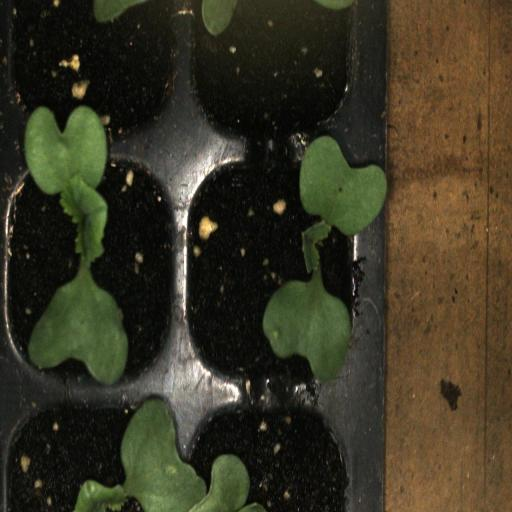Folha: (74, 398, 266, 512)
Germinacao: (179, 144, 376, 392), (3, 143, 179, 391)
